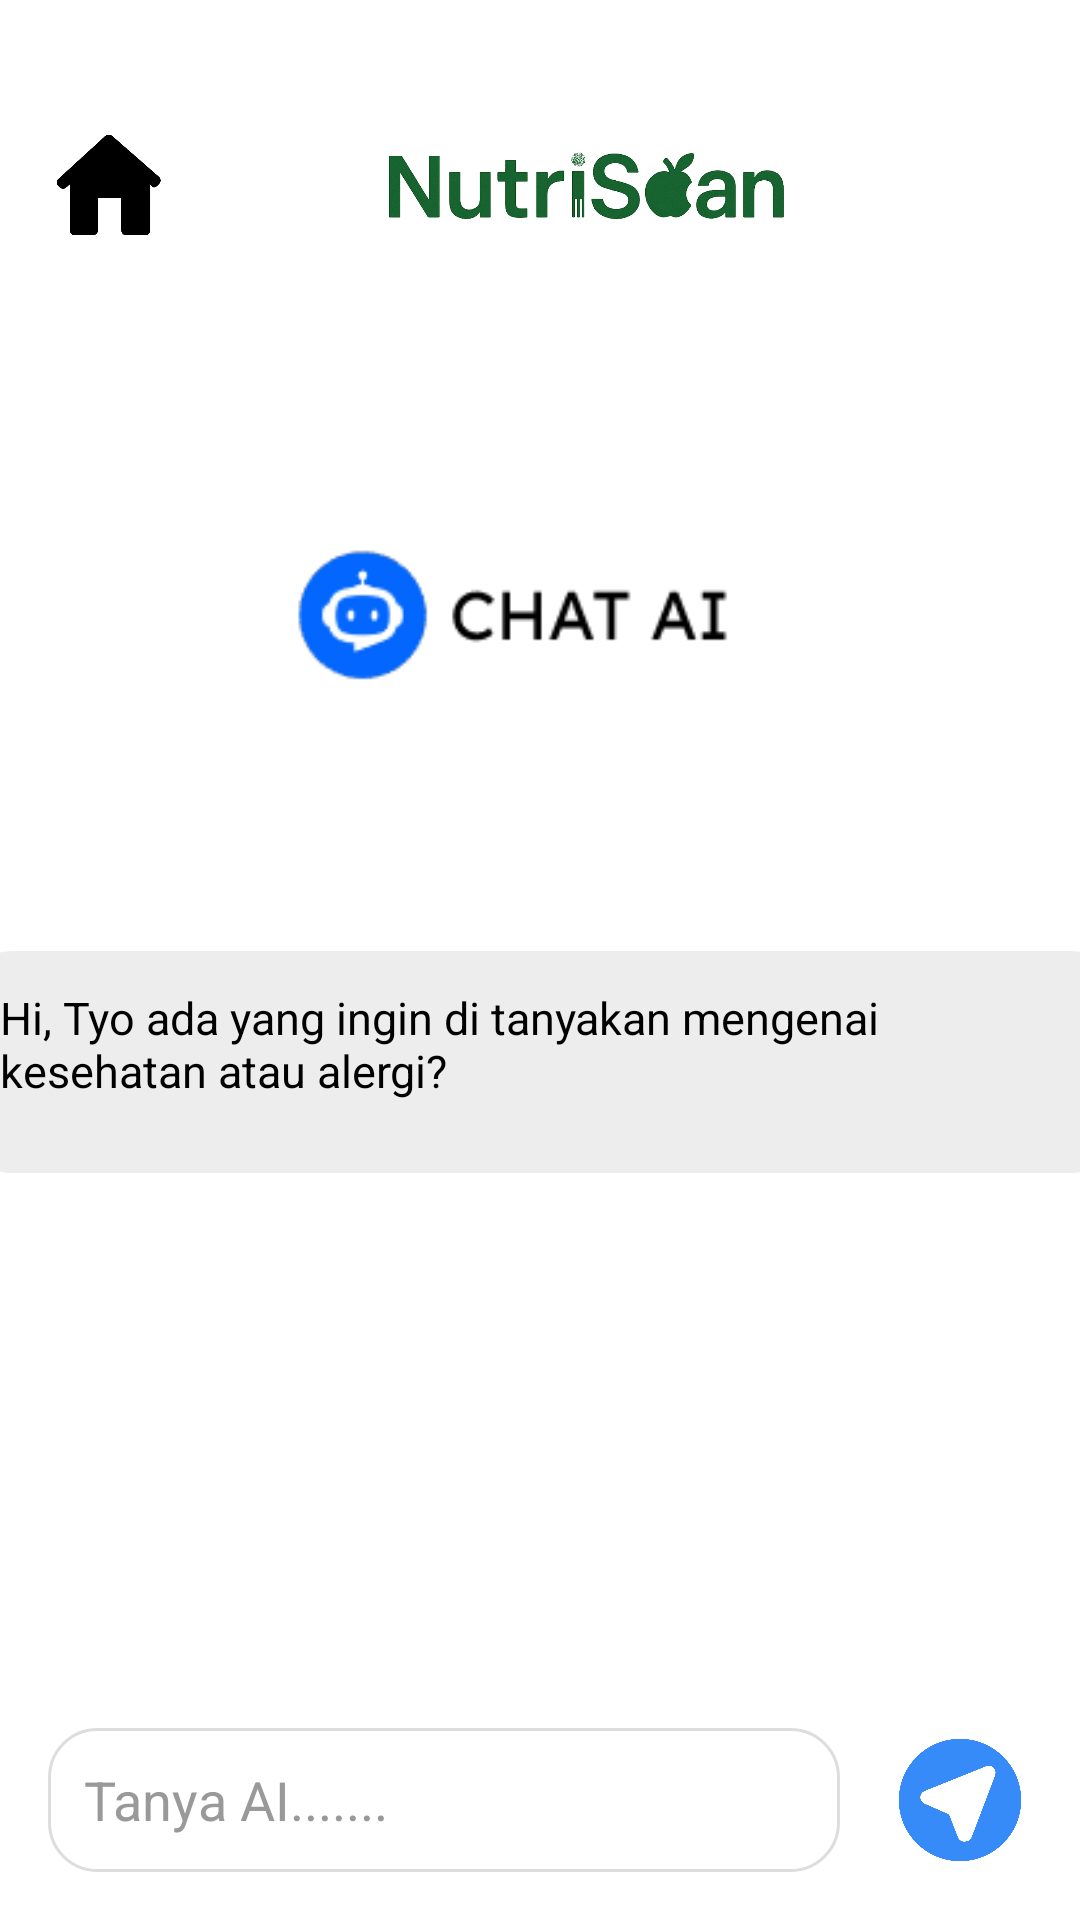

Point at icon controls on the screen. Image size 1080*1920, points as point (x, y).
Home: point (109, 185)
Kirim: point (960, 1800)
